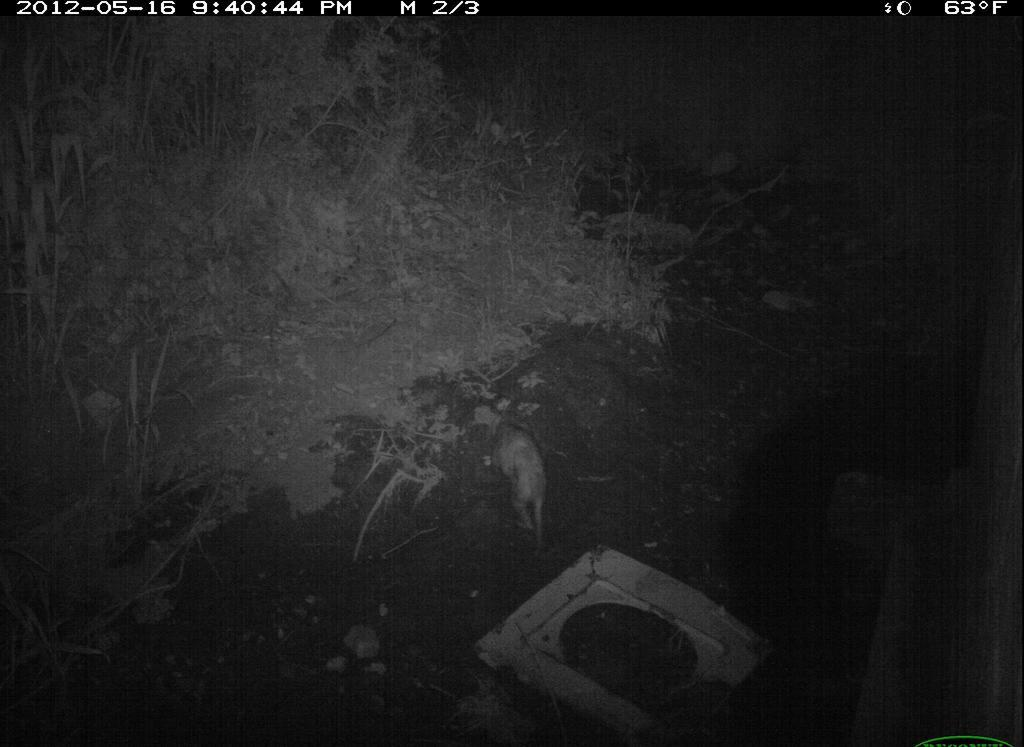opossum: (482, 402, 561, 551)
